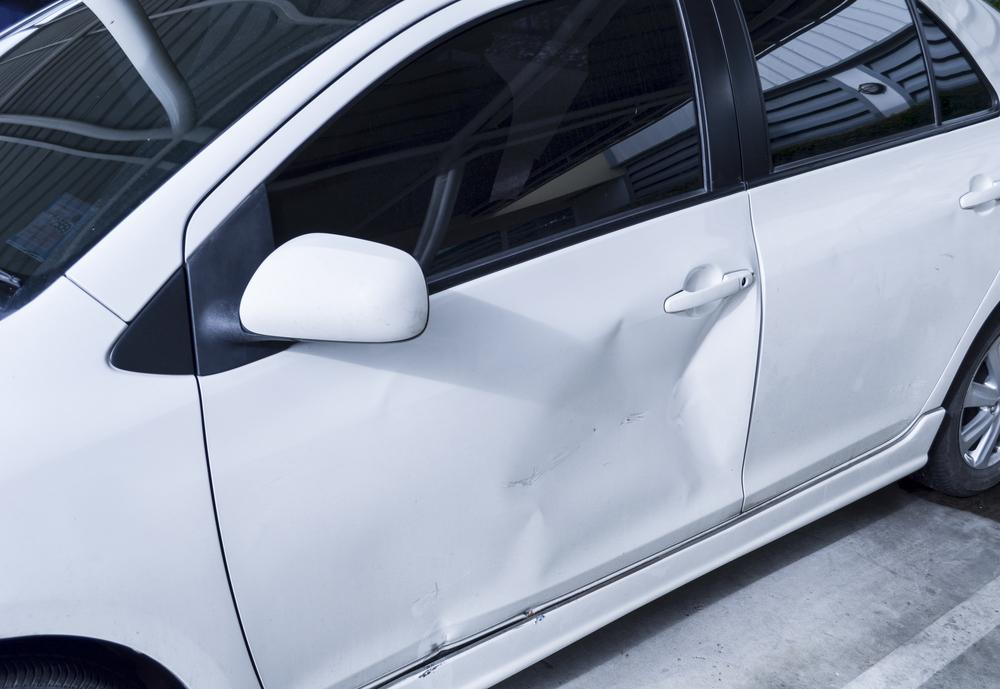dent: (354, 299, 743, 638)
